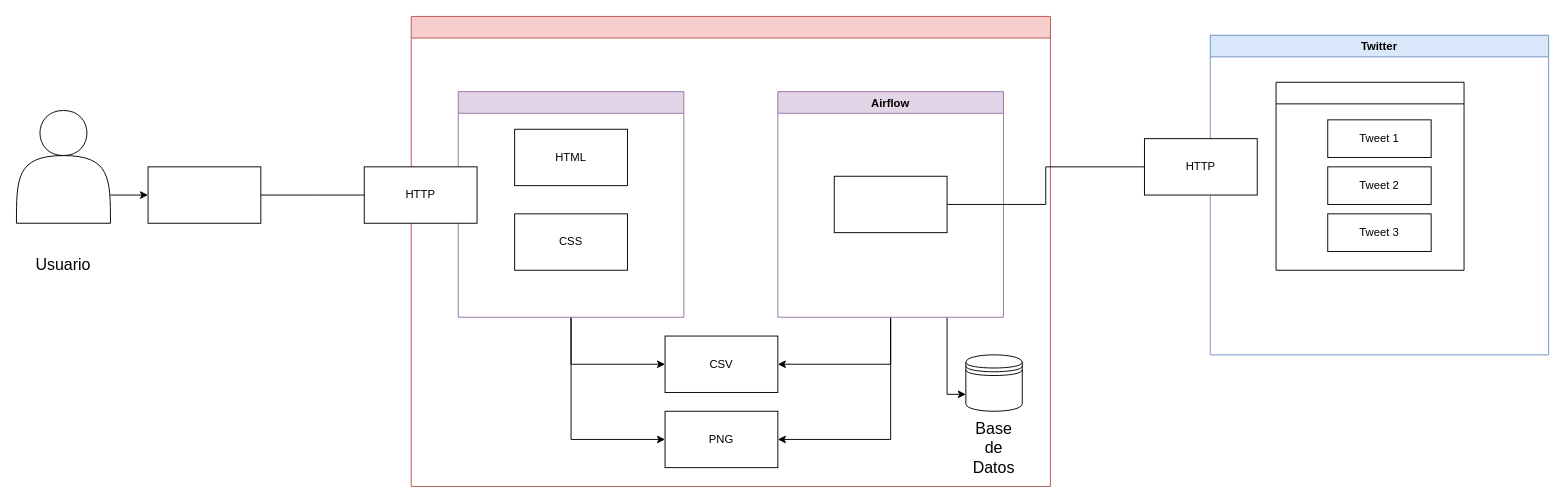
Some shapes in this 1565 by 503 pixel diagram are drawn without their labels. Here are the shapes that lost their labels. From the top down, the box of each, then its label:
(147, 166, 261, 223): Navegador Web
(1275, 81, 1464, 270): Candidato A
(457, 91, 684, 317): Flask
(833, 175, 947, 233): Scripts Python
(410, 16, 1050, 486): Servidor en la Nube
